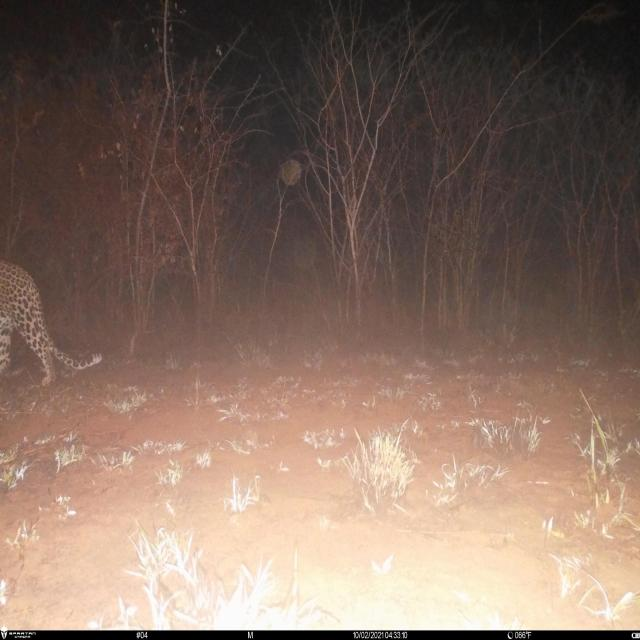Leopard: (0, 243, 81, 403)
